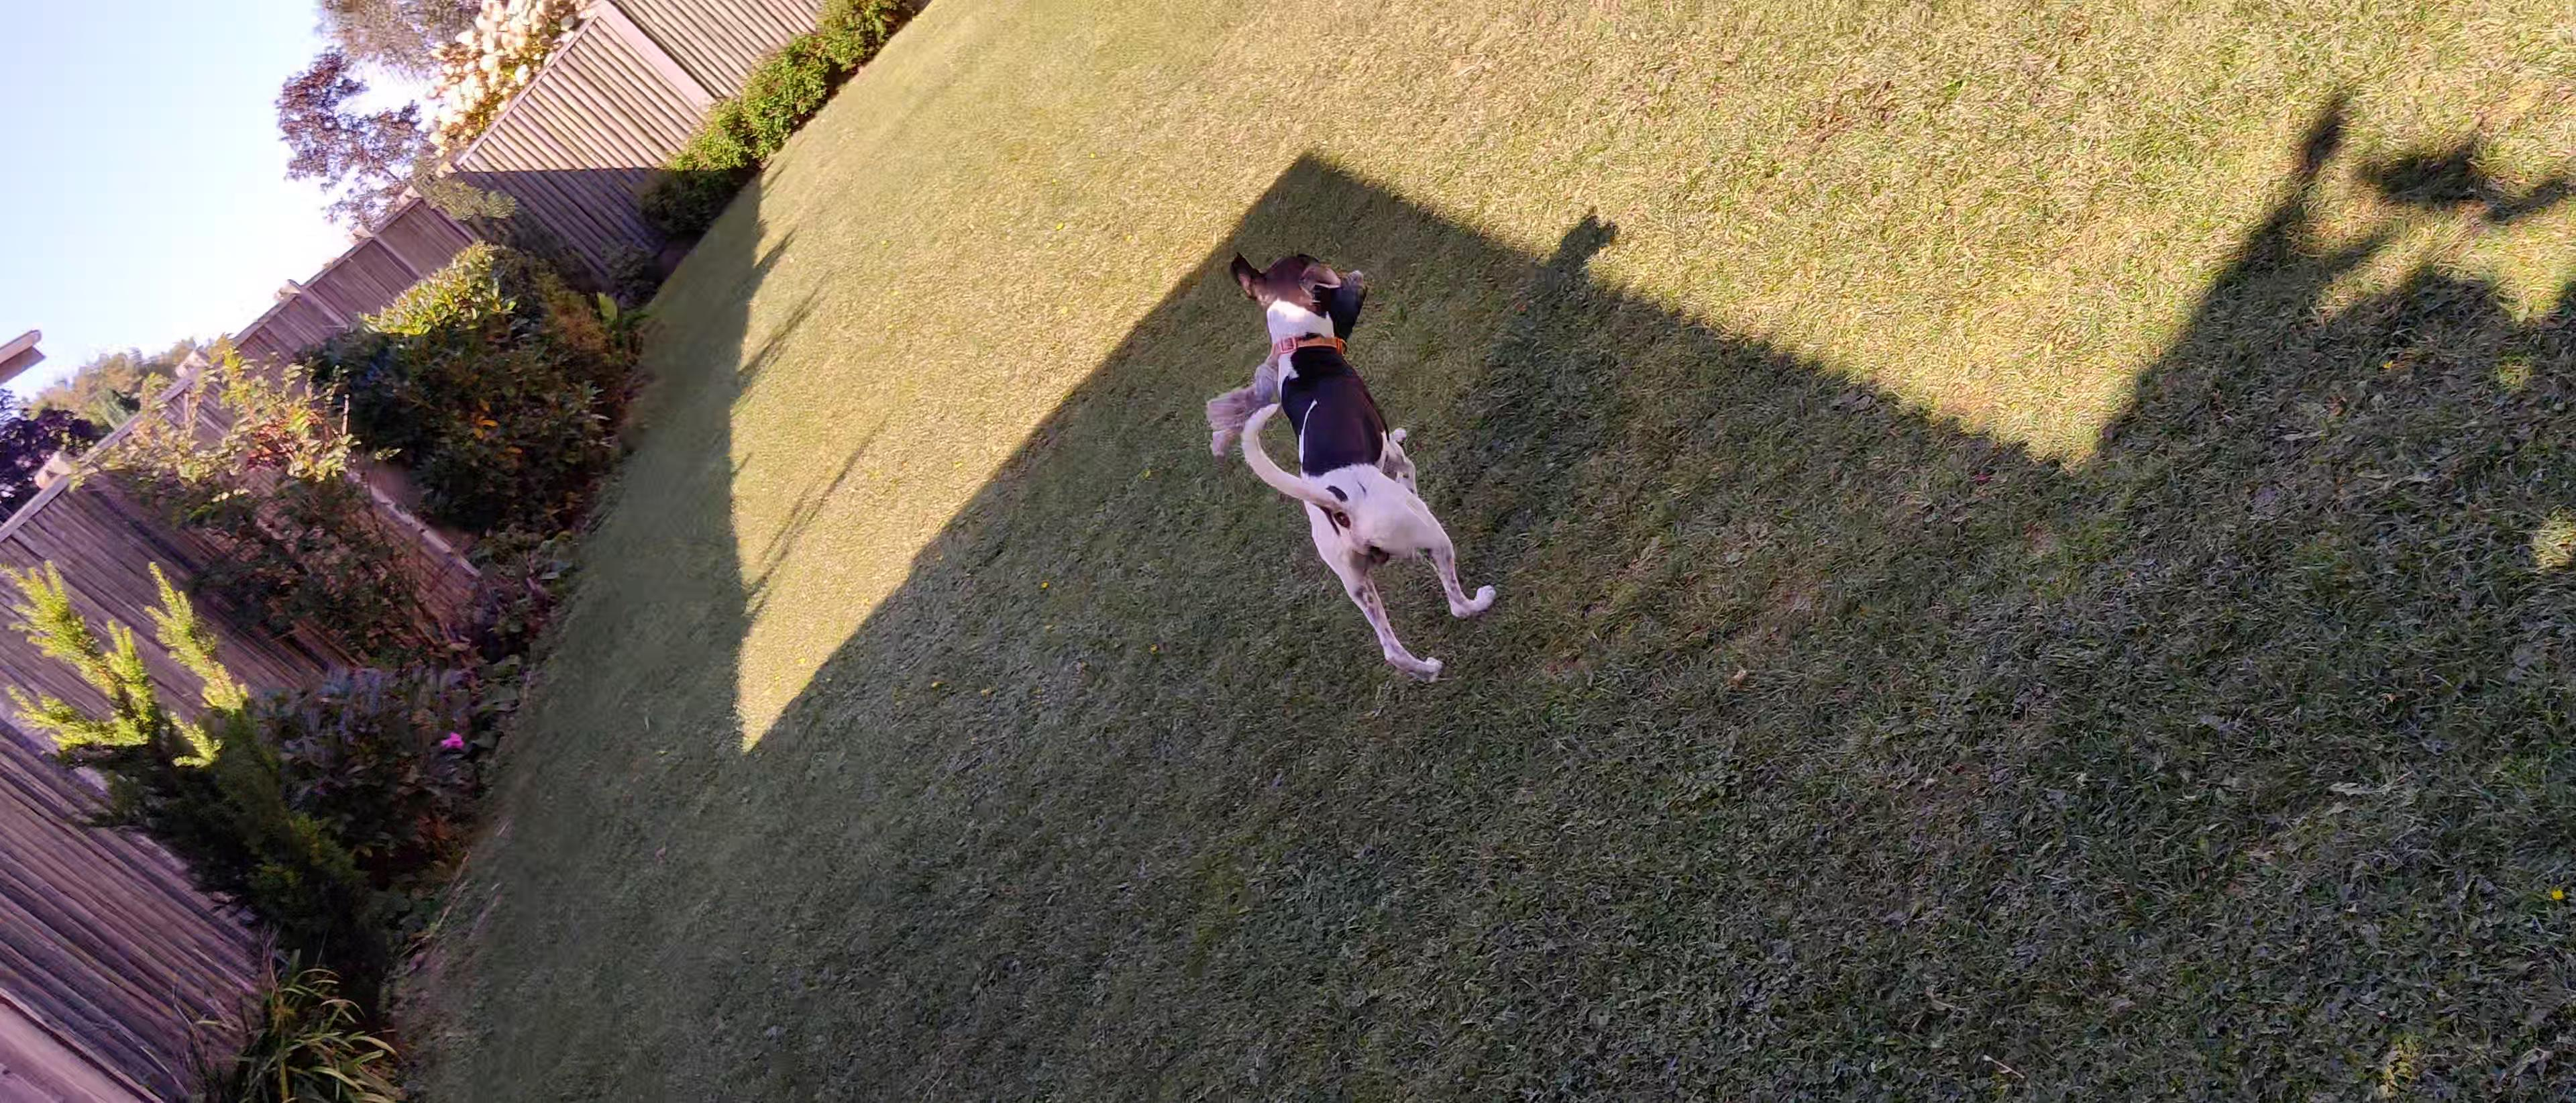Dog: (1207, 242, 1503, 687)
